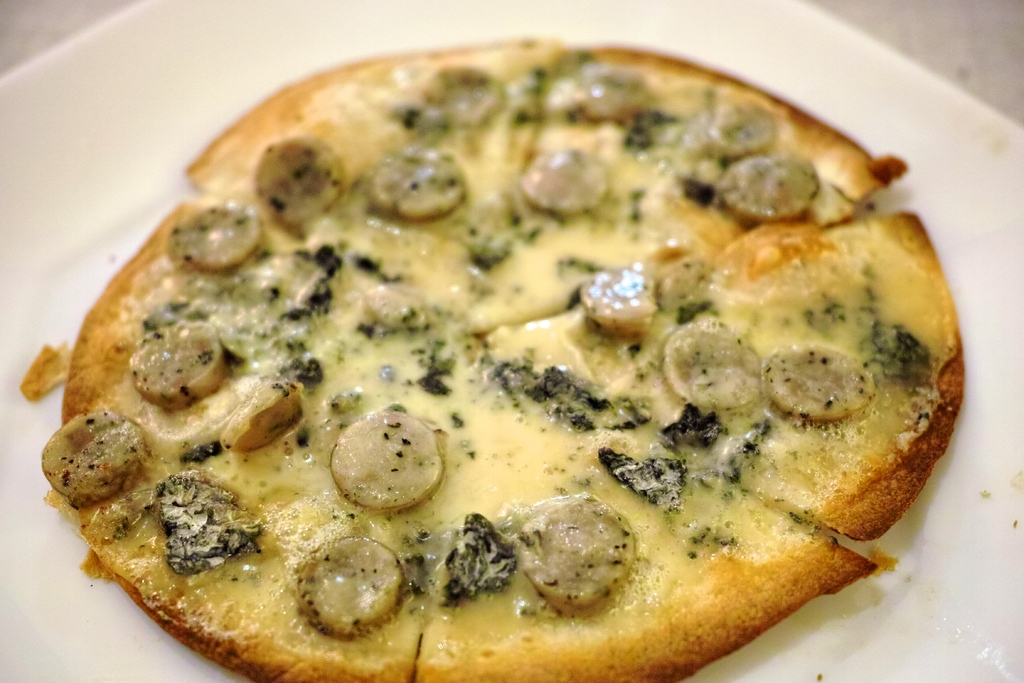Pizza: (33, 33, 1004, 663)
